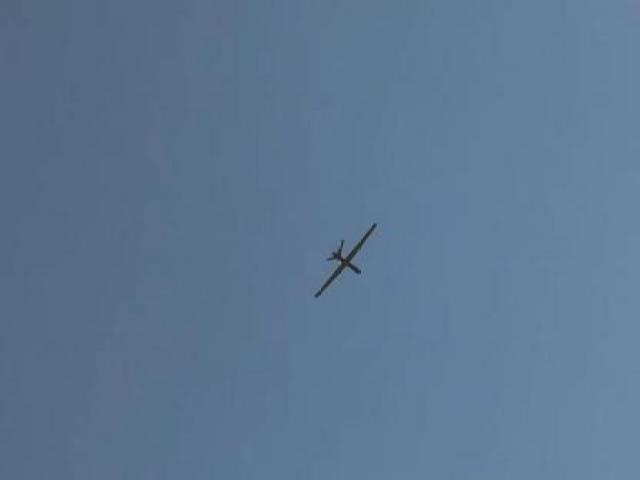uav: (308, 207, 387, 304)
